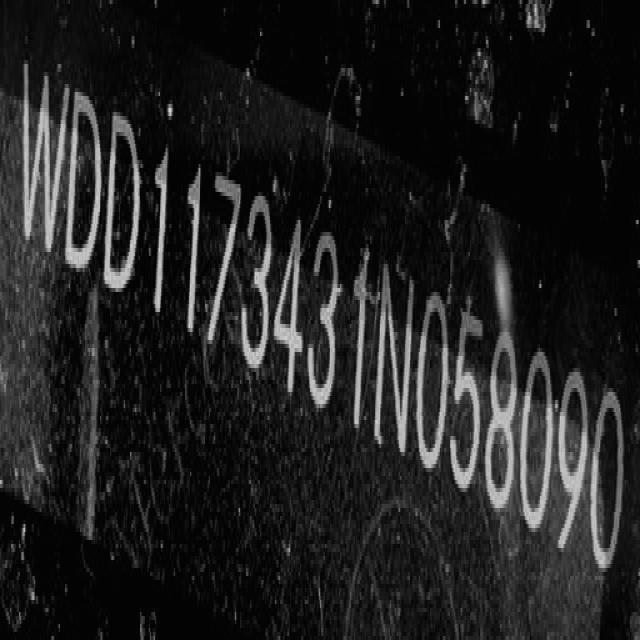0: (592, 372, 628, 586), (520, 339, 556, 543), (417, 281, 451, 489)
1: (348, 241, 376, 449), (148, 135, 174, 338), (184, 153, 206, 358)
3: (308, 215, 344, 430), (241, 173, 275, 378)
4: (275, 198, 311, 410)
5: (453, 295, 485, 508)
7: (206, 162, 244, 380)
8: (483, 312, 522, 523)
9: (556, 350, 591, 570)
D: (106, 105, 145, 306), (68, 82, 104, 280)
N: (376, 253, 422, 472)
W: (20, 56, 70, 267)
